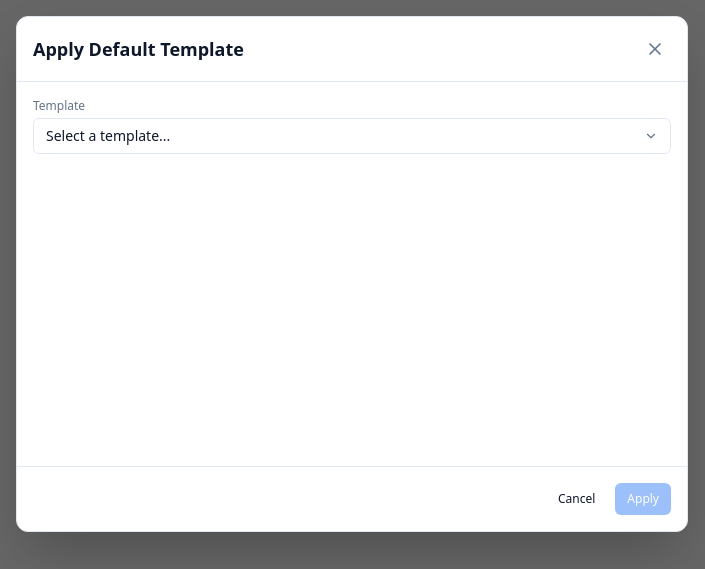
Test: TemplatePickerDialog › shows template names as dropdown options after load
Expected: the text "Template" is shown, [33,97,85,114]
What coordinates should you click on to do the following:
click the button "Select a template..."
I would click on:
 (108, 136)
Its box is [33,118,671,154].
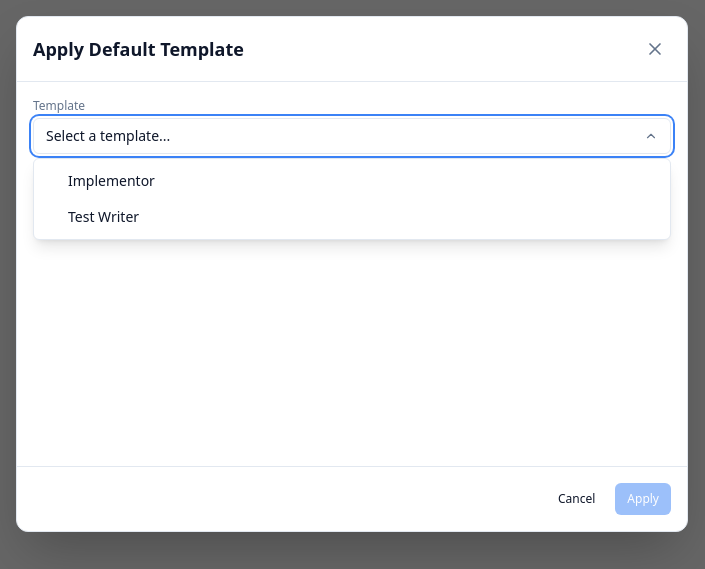
Now the text "Implementor" is shown, box [68,171,155,191]
Now the text "Test Writer" is shown, box [68,207,139,227]
